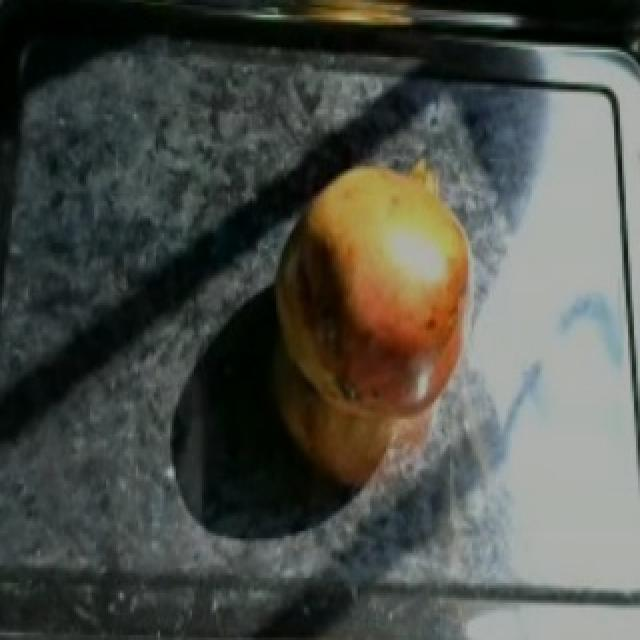fruit: (254, 139, 490, 441)
